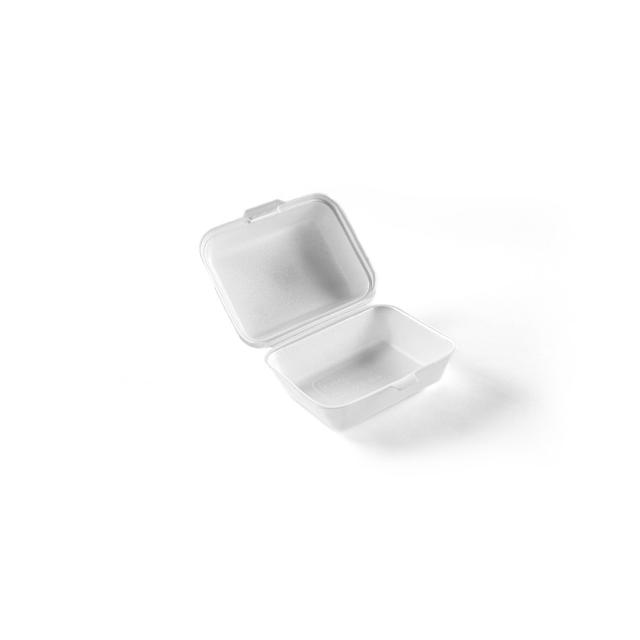styrofoam: (198, 191, 457, 432)
